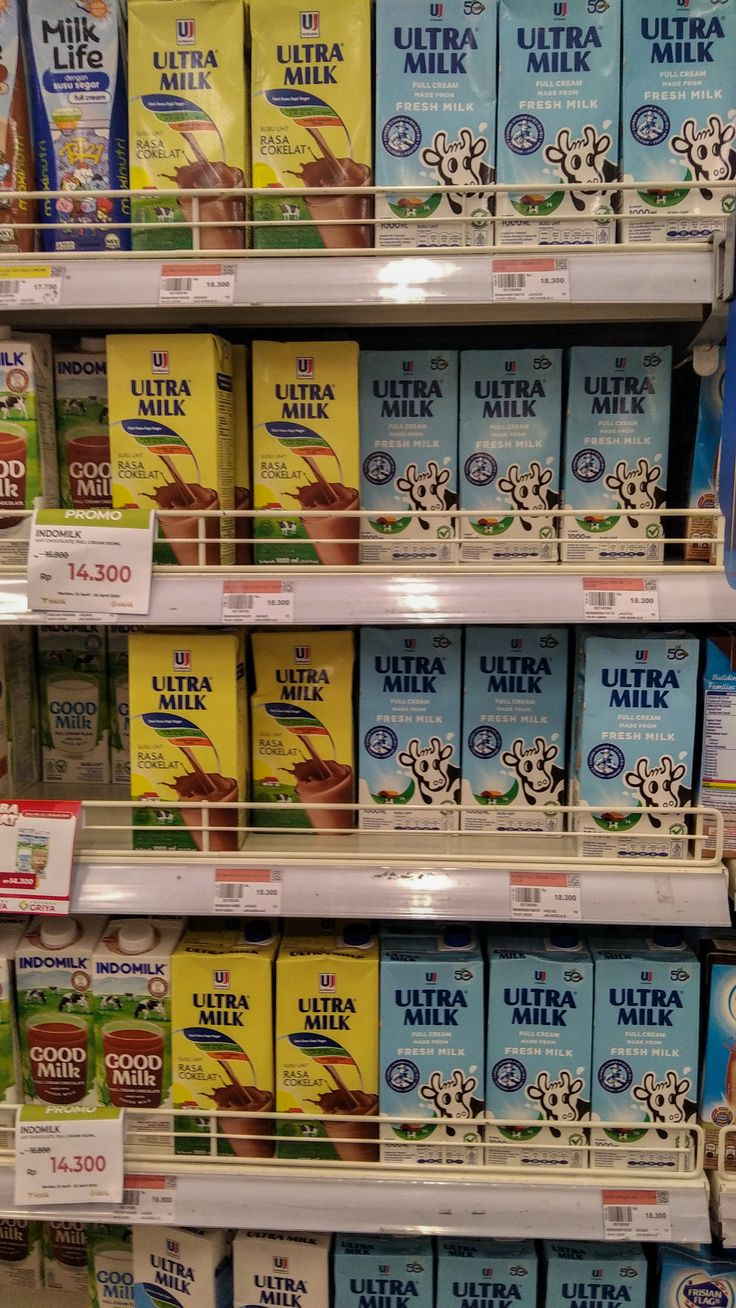Indomilk Good Milk: (82, 934, 182, 1174)
Ultra Milk: (229, 315, 369, 578)
